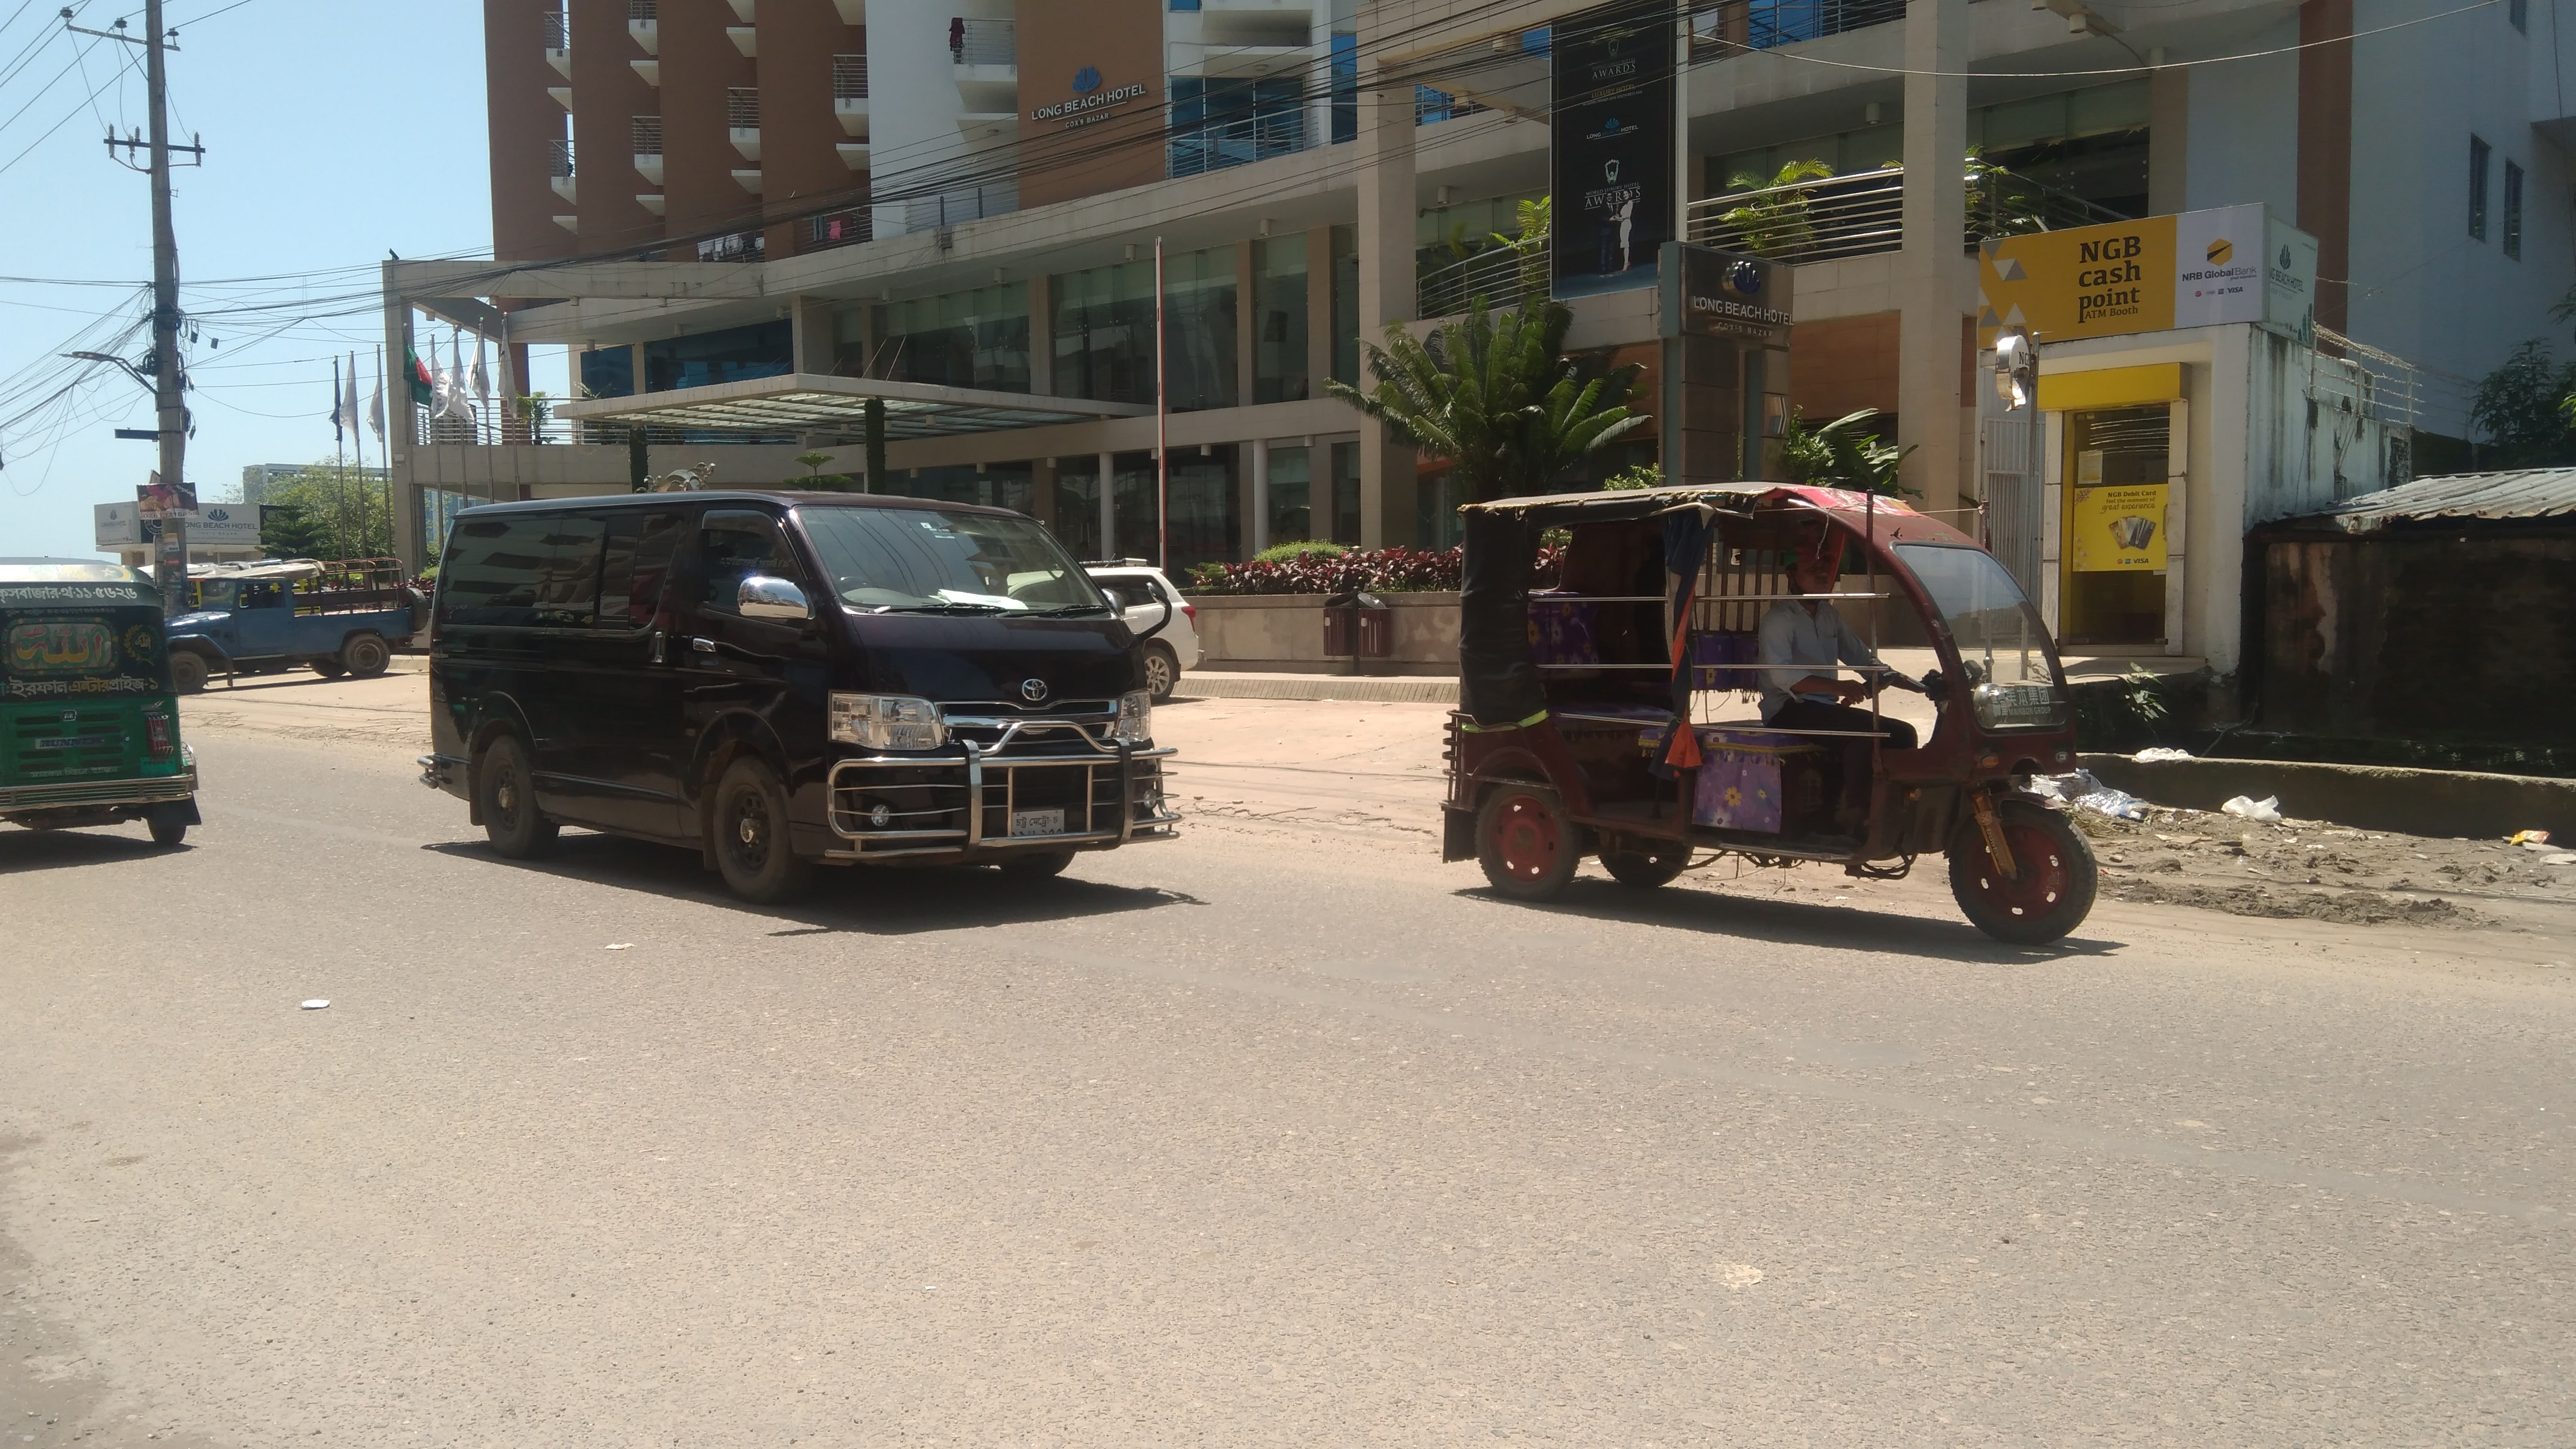car: (405, 467, 1203, 938), (177, 534, 425, 685), (1104, 531, 1219, 699)
cng: (4, 531, 226, 881)
easybike: (1430, 451, 2116, 950)
